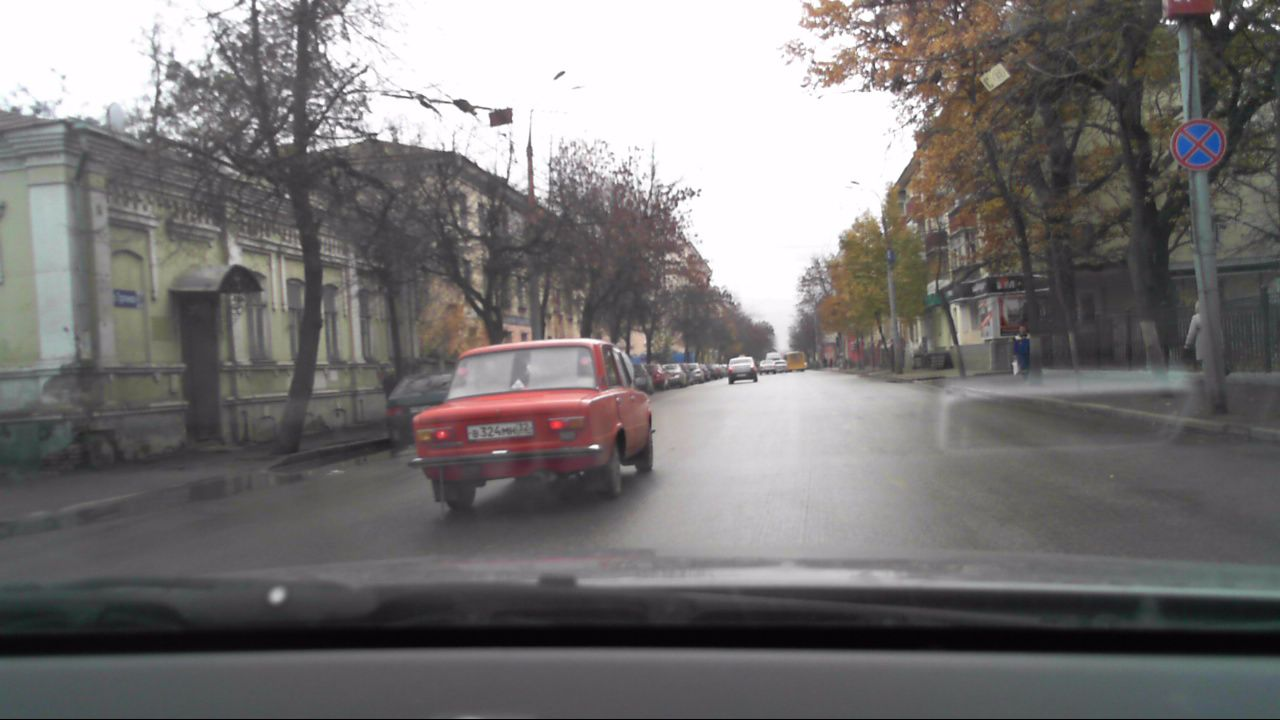No Parking: (1164, 116, 1227, 173)
